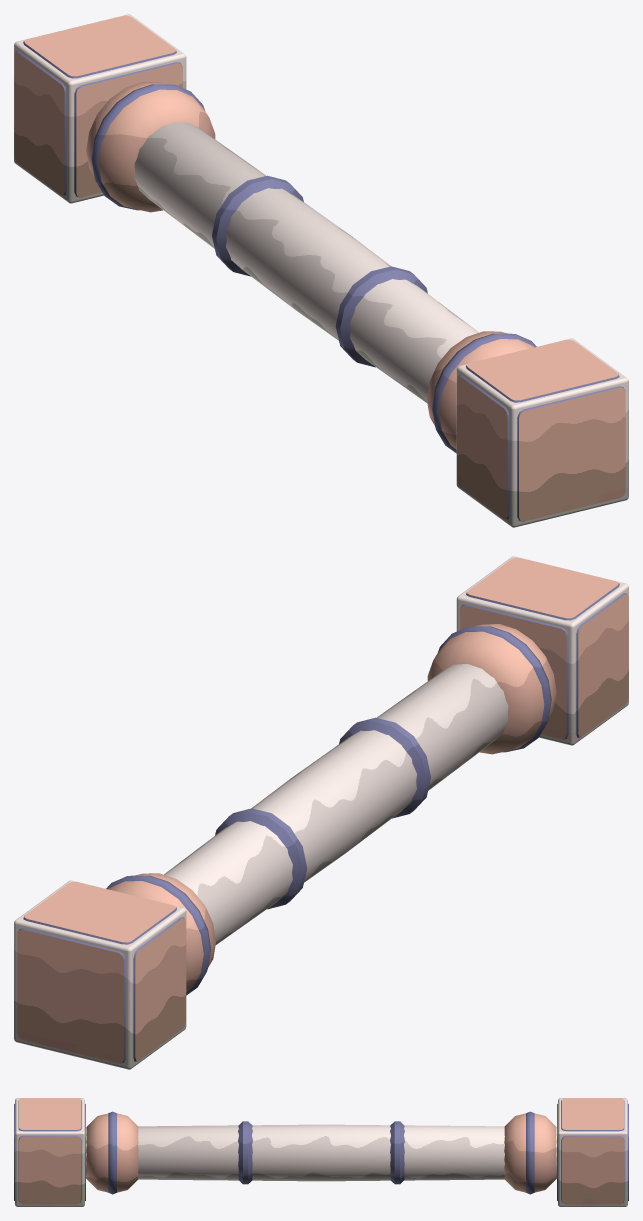
Rendered from R4C_ROD_STANDARD.glb.
3 views of the same model, one above another, from view 1: azimuth 30°, elevation 25°; view 2: azimuth 150°, elevation 25°; view 3: azimuth 270°, elevation 25° (orthographic). The views are drawn at different scales.
Visible parts, largest first — view 1: R4C_ROD_STANDARD; view 2: R4C_ROD_STANDARD; view 3: R4C_ROD_STANDARD.
Part boxes in pixels (bbox=[...]): R4C_ROD_STANDARD: bbox=[14, 14, 628, 527]; R4C_ROD_STANDARD: bbox=[14, 556, 628, 1069]; R4C_ROD_STANDARD: bbox=[14, 1098, 628, 1206].
Size of the model in its own units: 0.226 by 0.224 by 1.62.
Materials: 4 (3 with a texture image).
